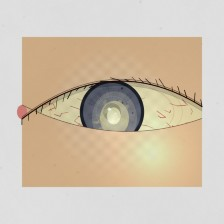corneal_ulcer: (86, 96, 143, 141)
